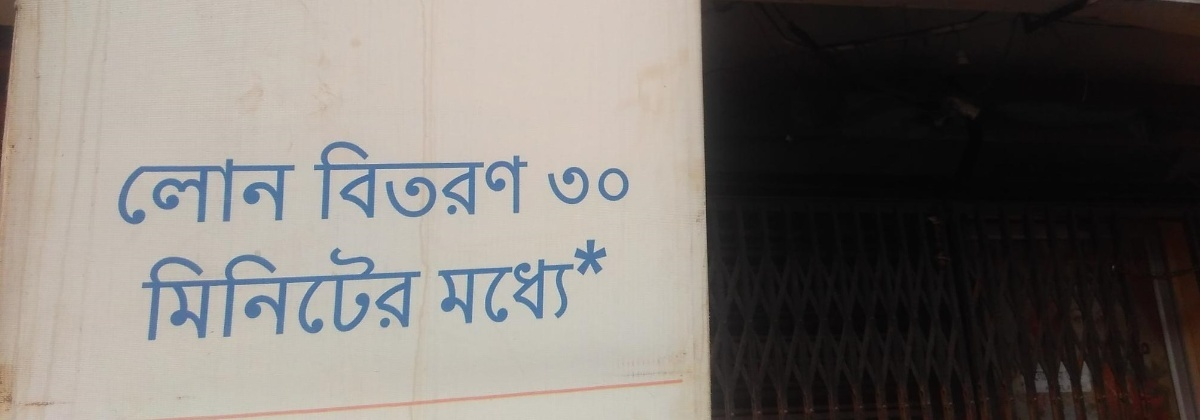text: (145, 242, 160, 343), (161, 242, 176, 343), (177, 242, 192, 343), (193, 242, 208, 343), (209, 242, 224, 343), (225, 242, 240, 343), (241, 242, 256, 343), (257, 242, 272, 343), (273, 242, 288, 343), (289, 242, 304, 343), (305, 242, 320, 343), (321, 242, 336, 343), (337, 242, 352, 343), (353, 242, 368, 343), (369, 242, 384, 343), (385, 242, 400, 343), (401, 242, 416, 343), (449, 231, 464, 327), (465, 231, 480, 327), (481, 231, 496, 327), (497, 231, 512, 327), (513, 231, 528, 327), (529, 231, 544, 327), (545, 231, 560, 327), (561, 231, 576, 327), (577, 231, 592, 327), (593, 231, 608, 327), (609, 231, 624, 327), (625, 231, 639, 327), (321, 139, 336, 224), (337, 139, 352, 224), (353, 139, 368, 224), (369, 139, 384, 224), (385, 139, 400, 224), (401, 139, 416, 224), (417, 139, 432, 224), (433, 139, 448, 224), (449, 139, 464, 224), (465, 139, 480, 224), (481, 139, 496, 224), (497, 139, 512, 224), (513, 139, 528, 224), (435, 231, 448, 327), (113, 156, 128, 226), (129, 156, 144, 226), (145, 156, 160, 226), (161, 156, 176, 226), (177, 156, 192, 226), (193, 156, 208, 226), (209, 156, 224, 226), (225, 156, 240, 226), (241, 156, 256, 226), (257, 156, 272, 226), (273, 156, 288, 226), (417, 242, 427, 343), (289, 156, 303, 226), (137, 242, 144, 343), (561, 161, 576, 207), (577, 161, 592, 207), (593, 161, 608, 207), (609, 161, 624, 207), (548, 161, 560, 207), (316, 139, 320, 224), (625, 161, 630, 207)
